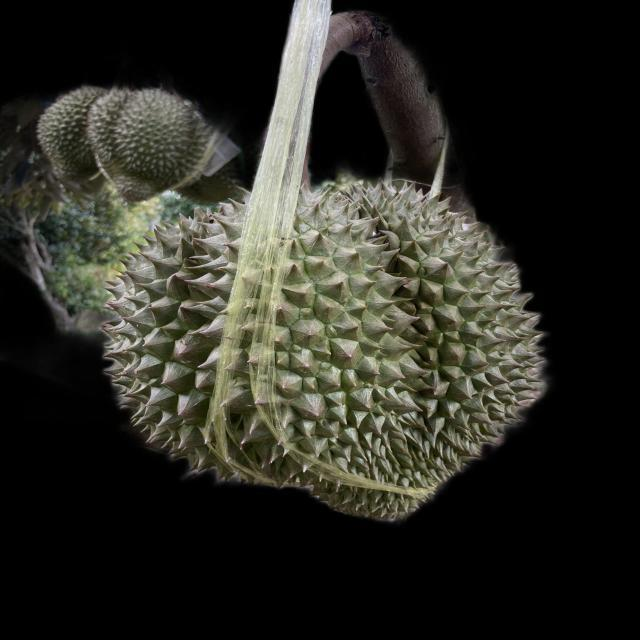immature: (101, 182, 552, 520)
